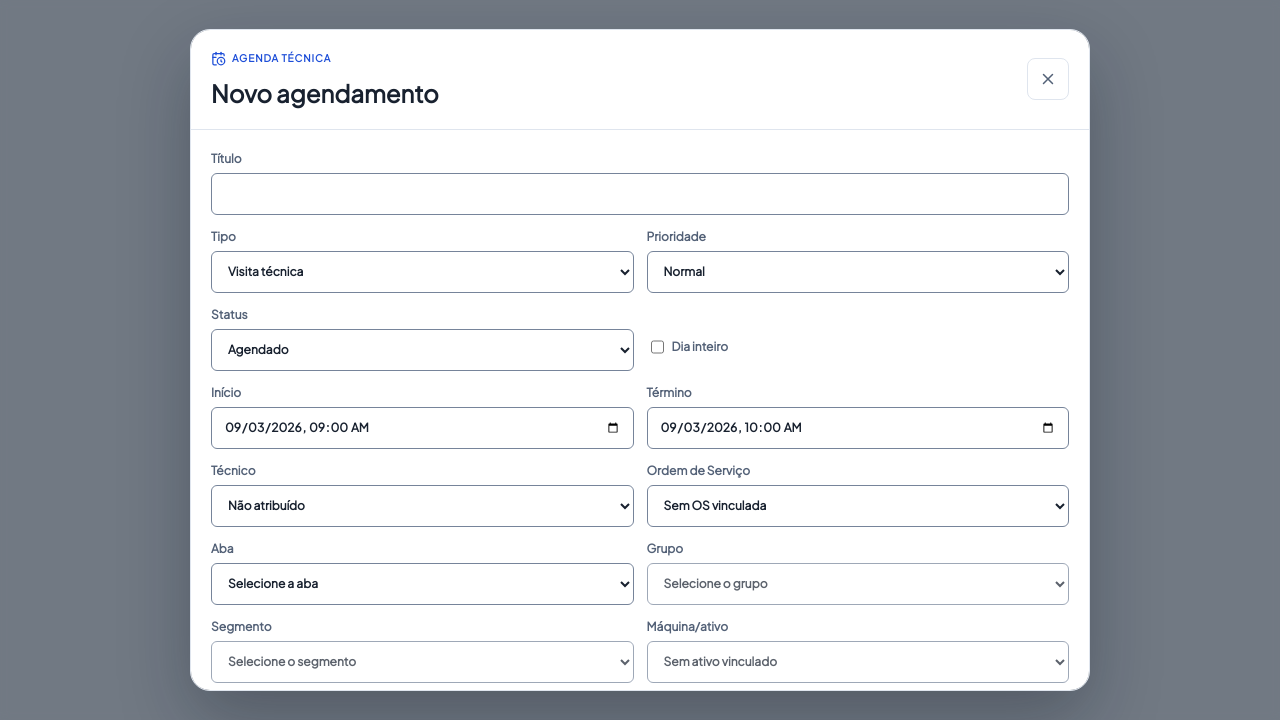
it: CalendarEventModal › oculta horários no modo dia inteiro e remove OS finalizada
What coordinates should you click on to do the following:
click the checkbox labelled "Dia inteiro"
I would click on:
 (657, 347)
Its box is [650,326,664,368].
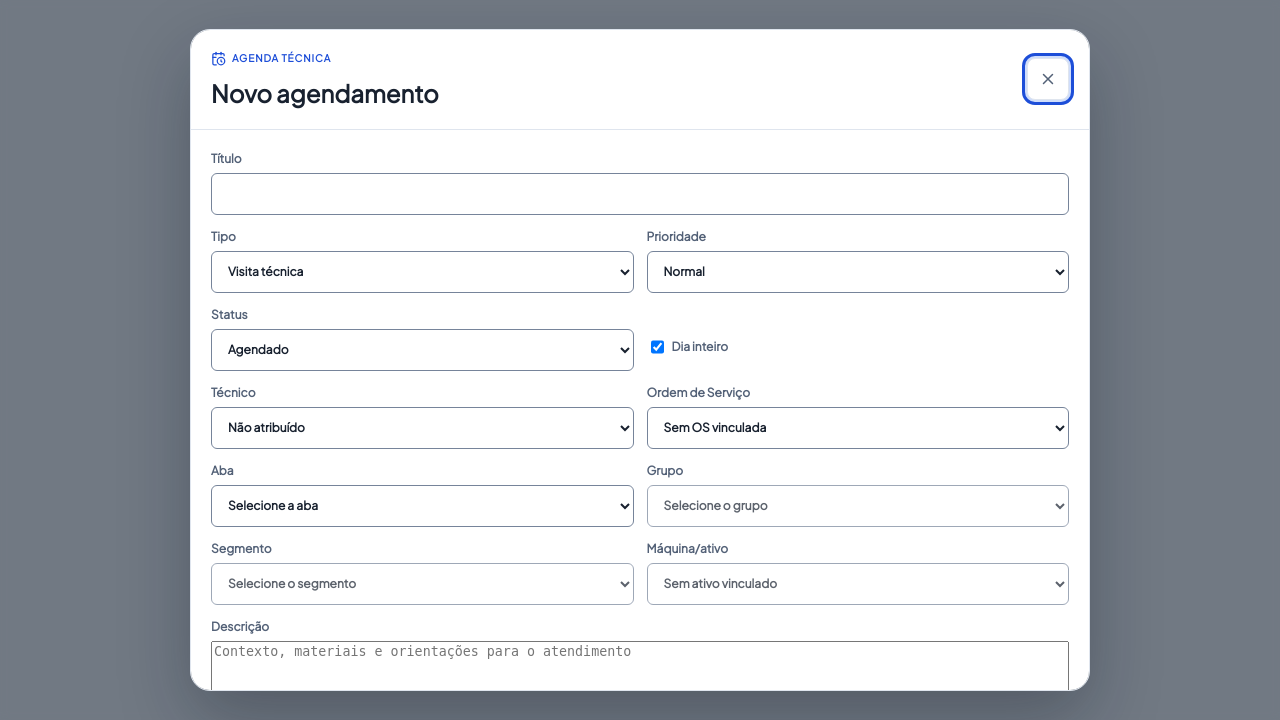
Result: the label labelled "Início" is gone
Result: the label labelled "Término" is gone
